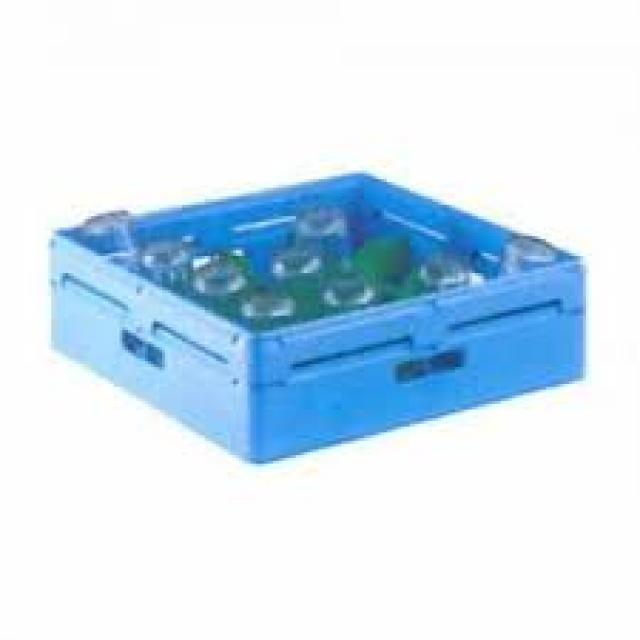basket: (31, 124, 610, 499)
